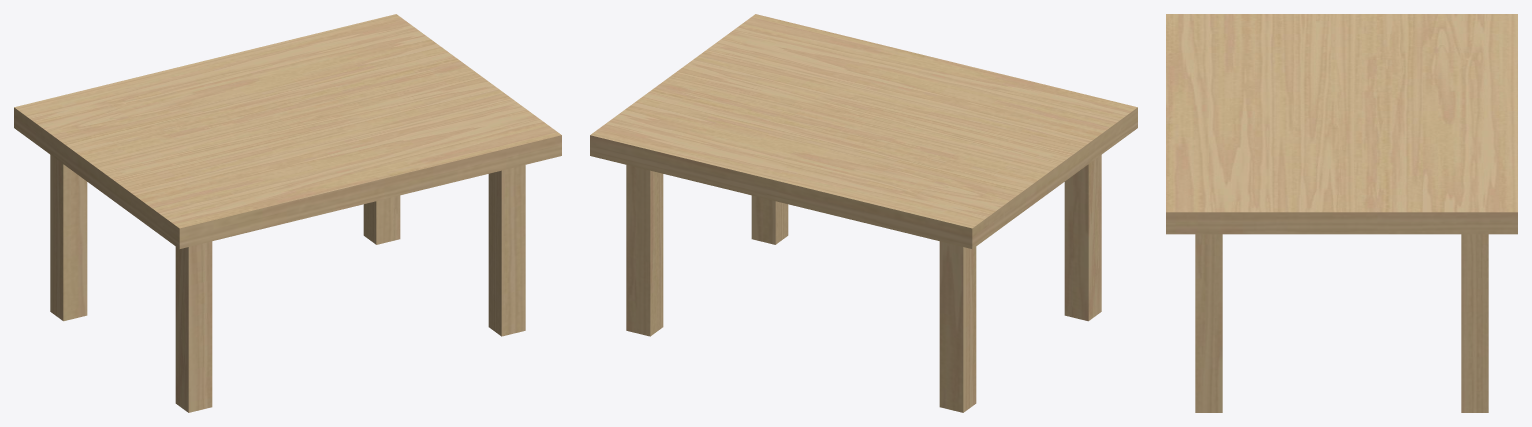
File: lowTable.gltf
The picture shows the model from 3 angles, left to right: view 1: azimuth 30°, elevation 25°; view 2: azimuth 150°, elevation 25°; view 3: azimuth 270°, elevation 25°; orthographic projection. The views are drawn at different scales.
Visible parts, largest first — view 1: table; view 2: table; view 3: table.
Boxes of the visible parts, box(x1,y1,x2,y2) form: table: box(14, 14, 561, 412); table: box(590, 14, 1137, 412); table: box(1166, 14, 1517, 412).
Bounding box in the file's own units: 0.8 × 0.4 × 0.6.
1 material, 1 textured.
